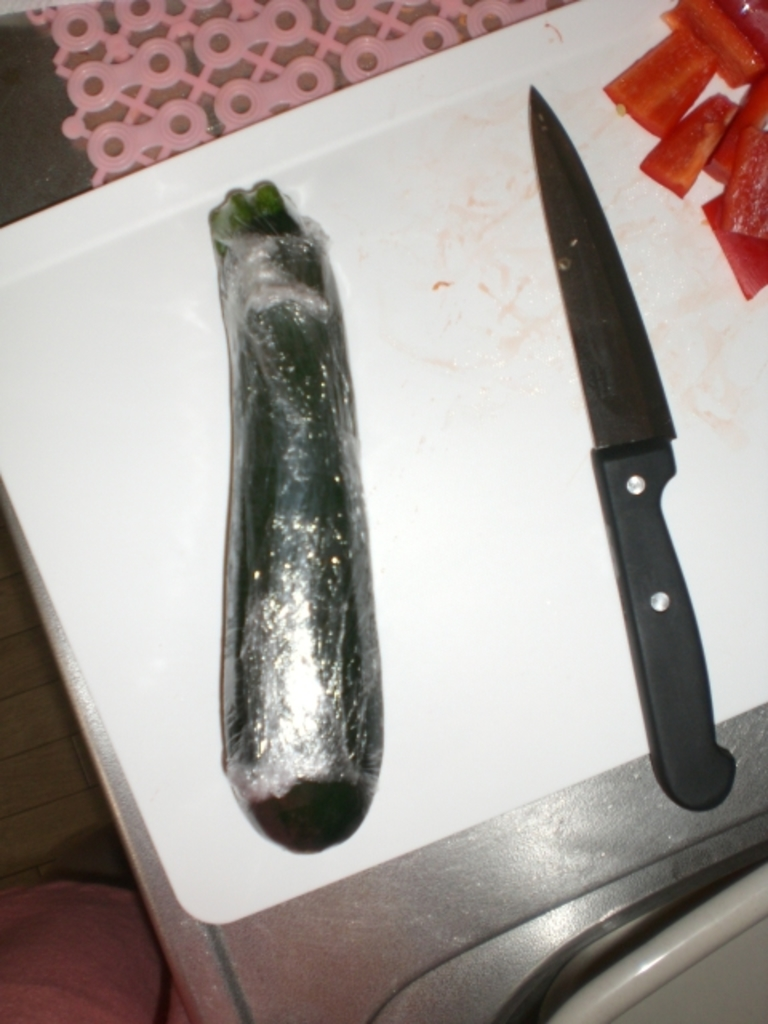kitchen knife: (518, 83, 737, 814)
